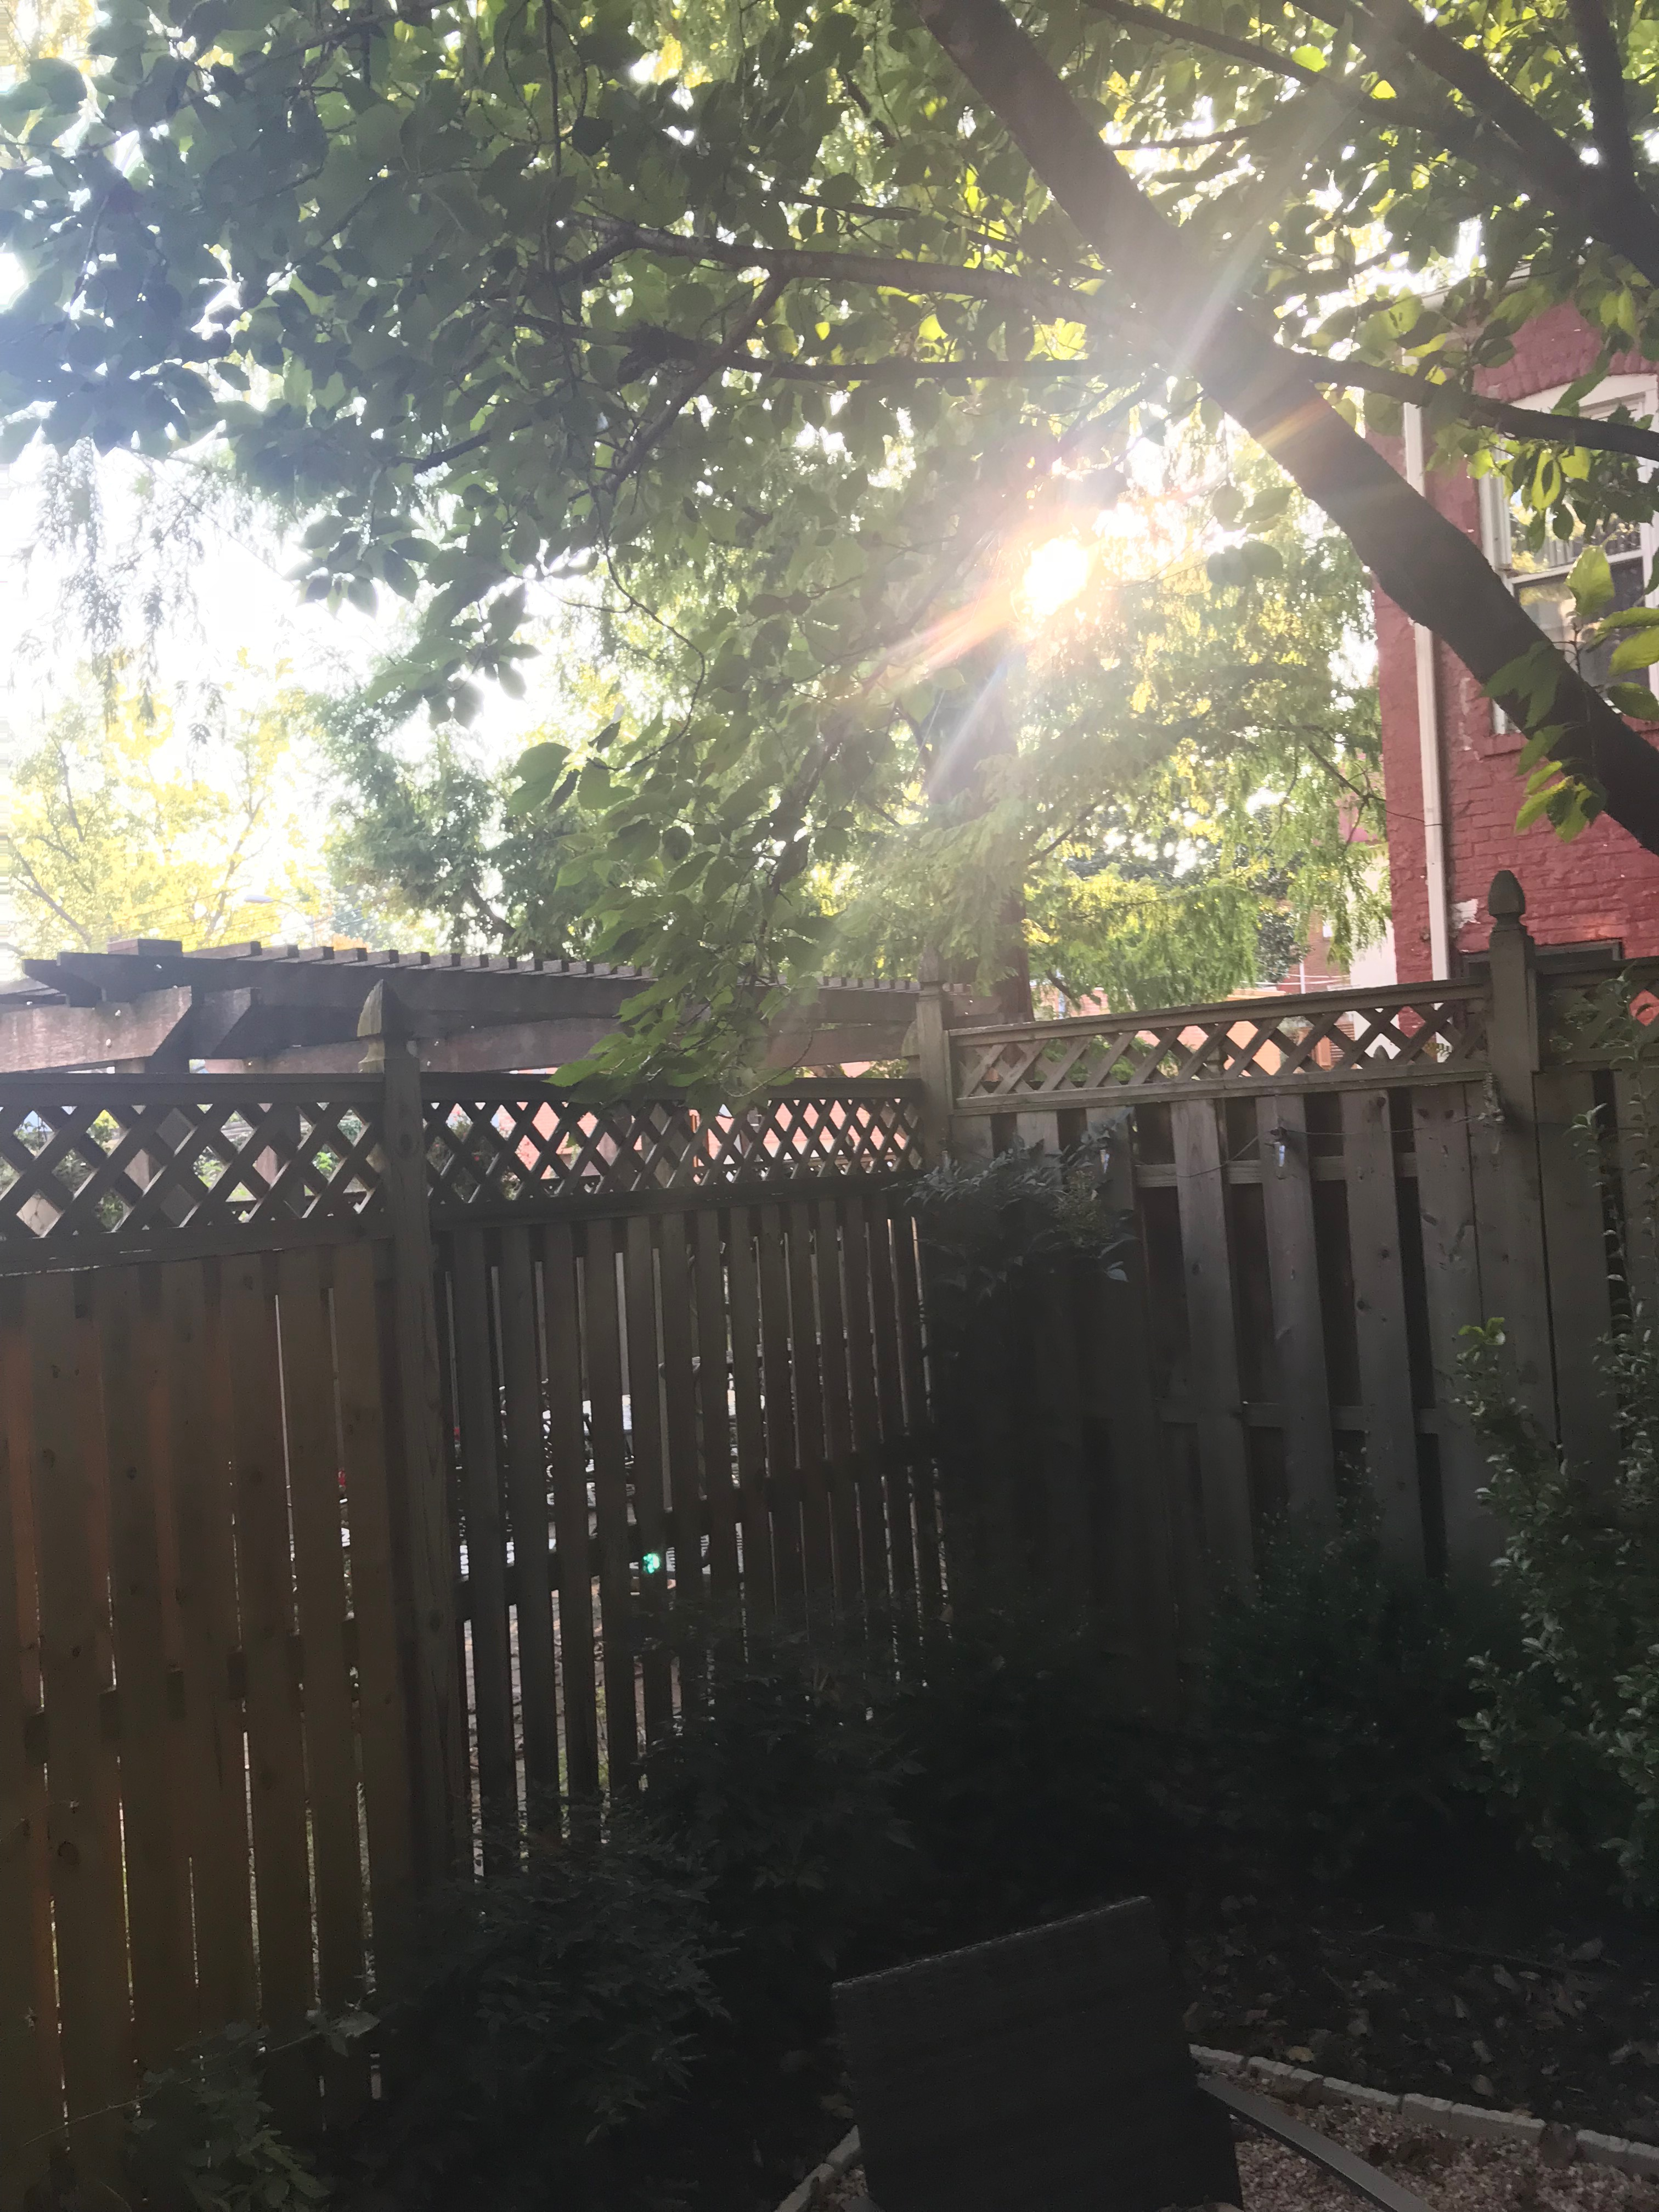flare: (641, 1552, 662, 1576)
